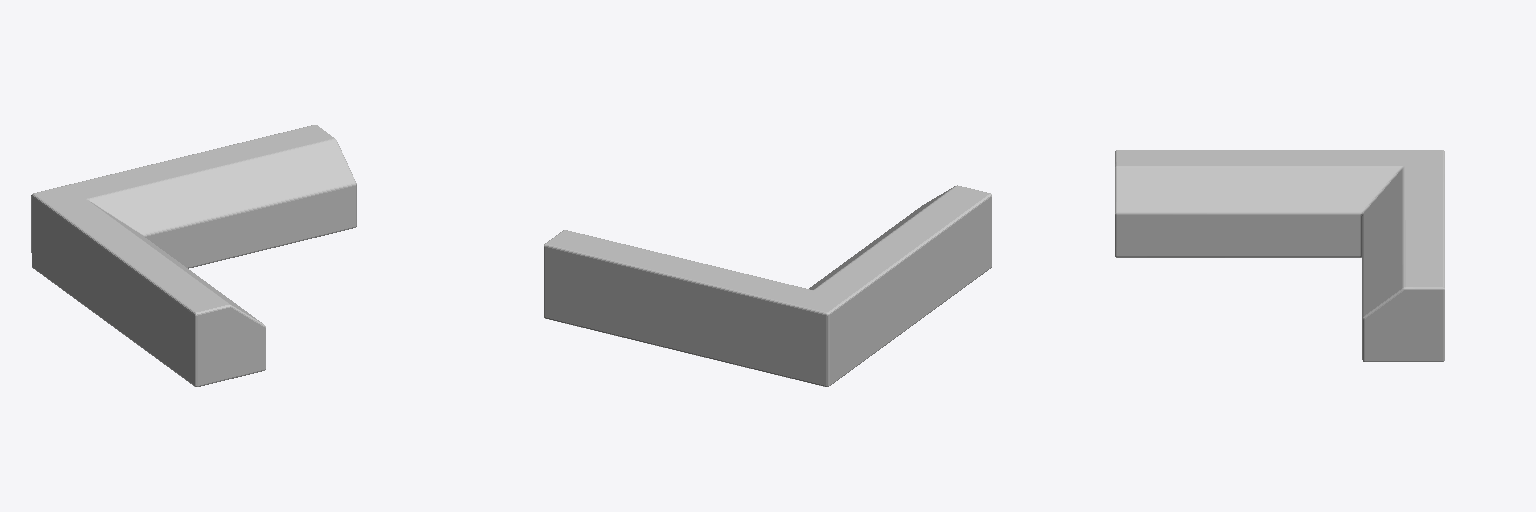
Rendered from Outside_Corner_HP.obj.
3 views of the same model, side by side, from view 1: azimuth 30°, elevation 25°; view 2: azimuth 150°, elevation 25°; view 3: azimuth 270°, elevation 25° (orthographic).
Visible parts, largest first — view 1: Outside_Corner_HP; view 2: Outside_Corner_HP; view 3: Outside_Corner_HP.
Part boxes in pixels (x1,y1,x2,y2): Outside_Corner_HP: (31, 125, 356, 386); Outside_Corner_HP: (544, 185, 991, 386); Outside_Corner_HP: (1115, 150, 1444, 361).
Bounding box in the file's own units: 4 × 1 × 4.